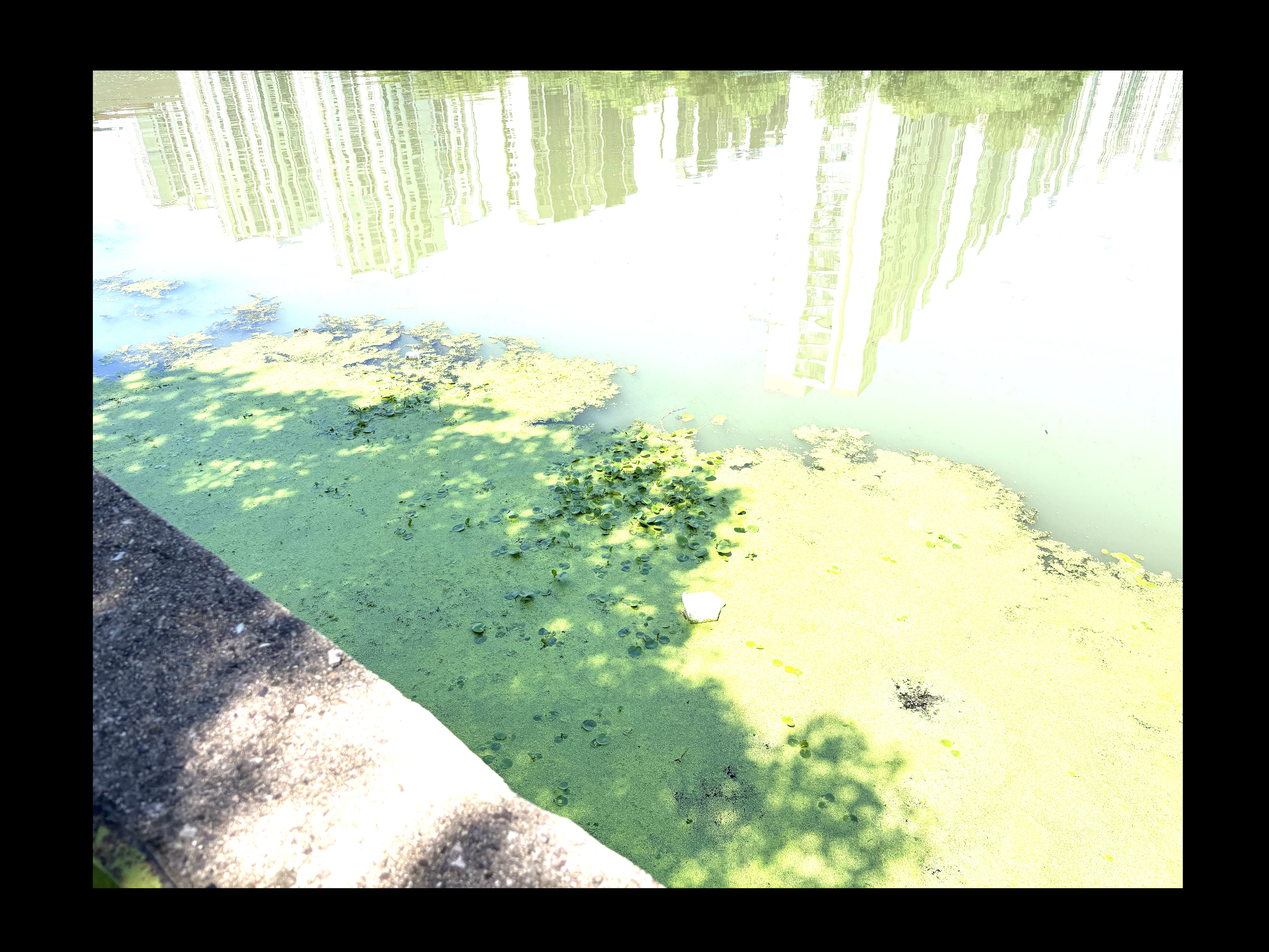Paper wastes: (405, 351, 423, 359)
Plastic wastes: (682, 591, 725, 622)
